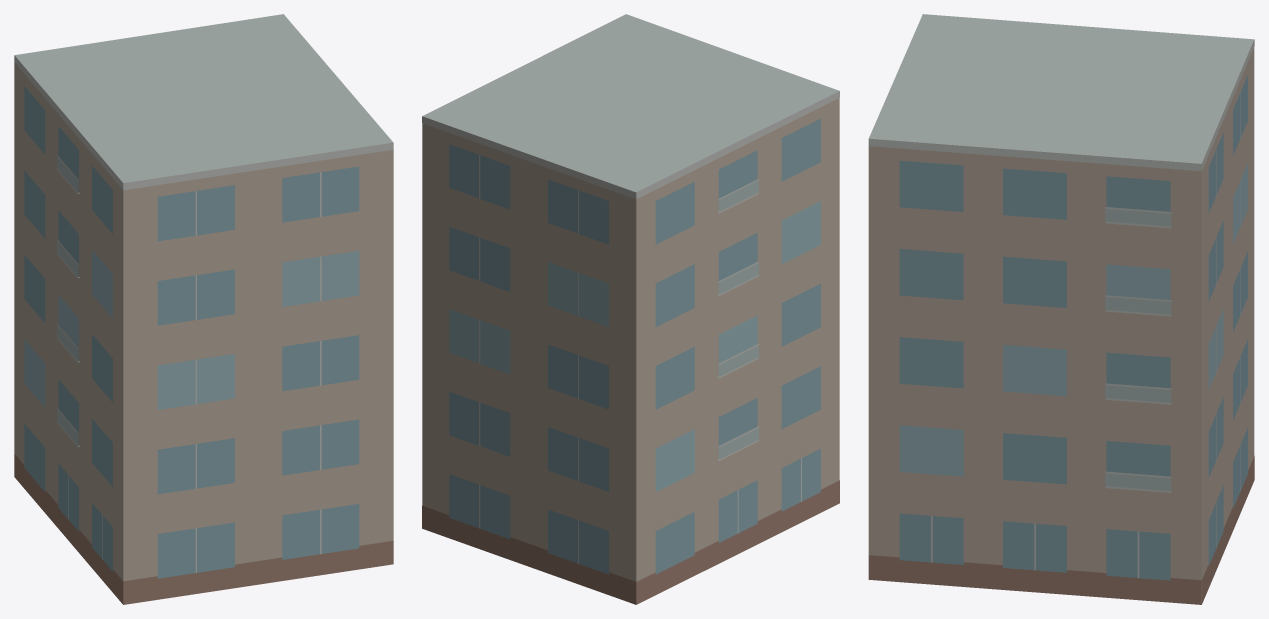
Rendered from survey-upis-32887519.glb.
3 views of the same model, side by side, from view 1: azimuth 30°, elevation 25°; view 2: azimuth 150°, elevation 25°; view 3: azimuth 270°, elevation 25° (orthographic). The views are drawn at different scales.
Visible parts, largest first — view 1: survey-upis-32887519.tmp; view 2: survey-upis-32887519.tmp; view 3: survey-upis-32887519.tmp.
Boxes of the visible parts, left/top/right/bottom form: survey-upis-32887519.tmp: left=14, top=14, right=393, bottom=604; survey-upis-32887519.tmp: left=422, top=14, right=839, bottom=604; survey-upis-32887519.tmp: left=868, top=14, right=1254, bottom=604.
Size of the model in its own units: 10.65 by 14.6 by 11.58.
